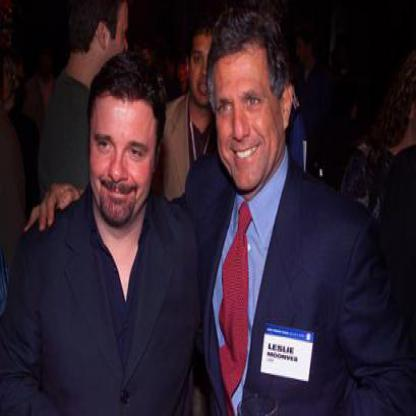face: (212, 25, 285, 192), (90, 70, 157, 230), (190, 23, 223, 107)
